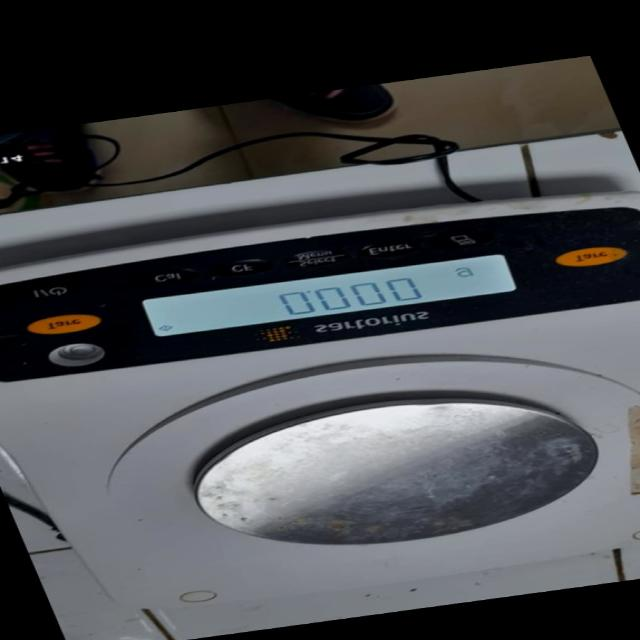Electronic balance: (0, 172, 640, 624)
